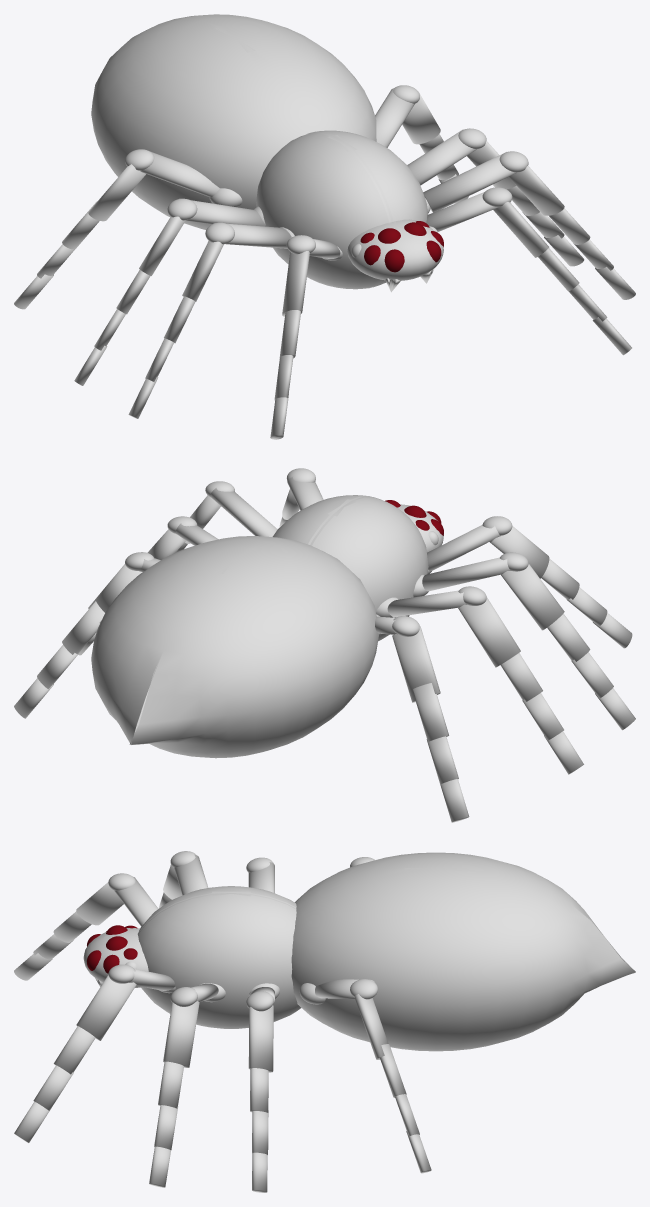
The model's file is superSpider.fbx.
3 views of the same model, one above another, from view 1: azimuth 30°, elevation 25°; view 2: azimuth 150°, elevation 25°; view 3: azimuth 270°, elevation 25° (orthographic). The views are drawn at different scales.
Parts seen in each view (by area): view 1: Body; view 2: Body; view 3: Body.
Boxes of the visible parts, bbox=[...] form: Body: bbox=[14, 14, 635, 439]; Body: bbox=[14, 468, 635, 822]; Body: bbox=[14, 851, 635, 1192].
Size of the model in its own units: 429 by 179 by 477.
